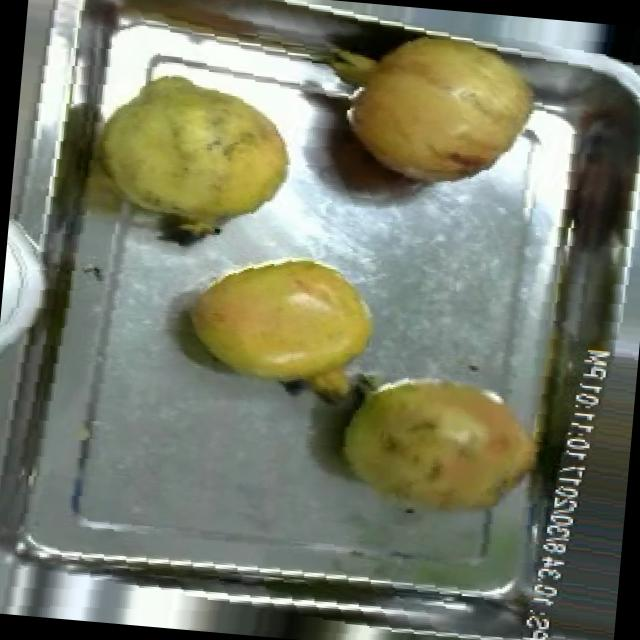fruit: (68, 48, 314, 266), (309, 8, 562, 210), (317, 355, 557, 542), (165, 238, 395, 408)
